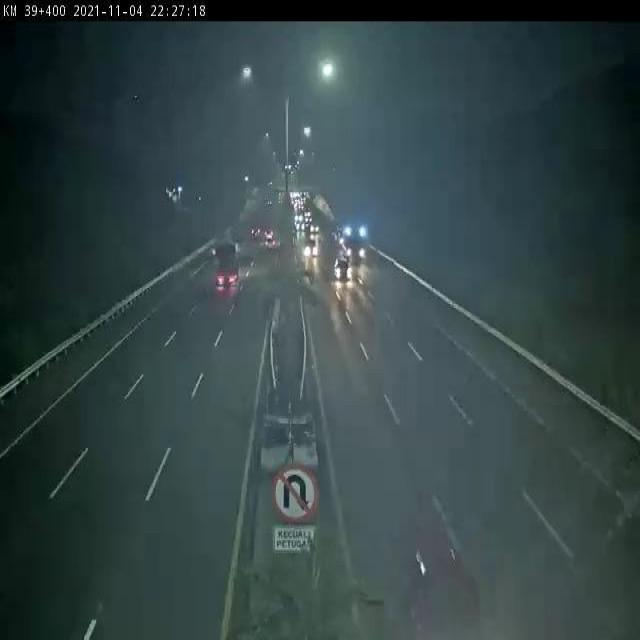car: (333, 255, 352, 280)
truck-m-: (215, 241, 240, 287)
